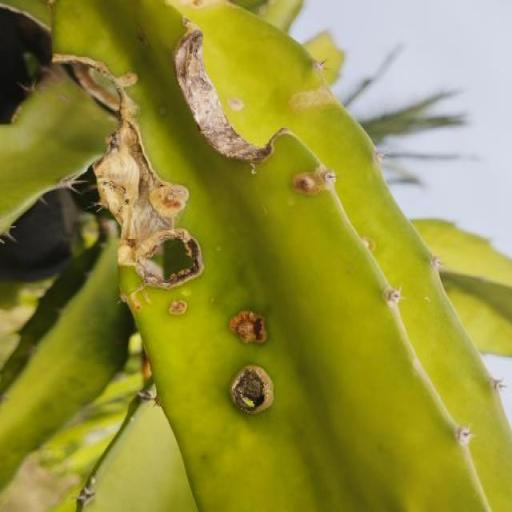stemcanker: (165, 296, 191, 321)
